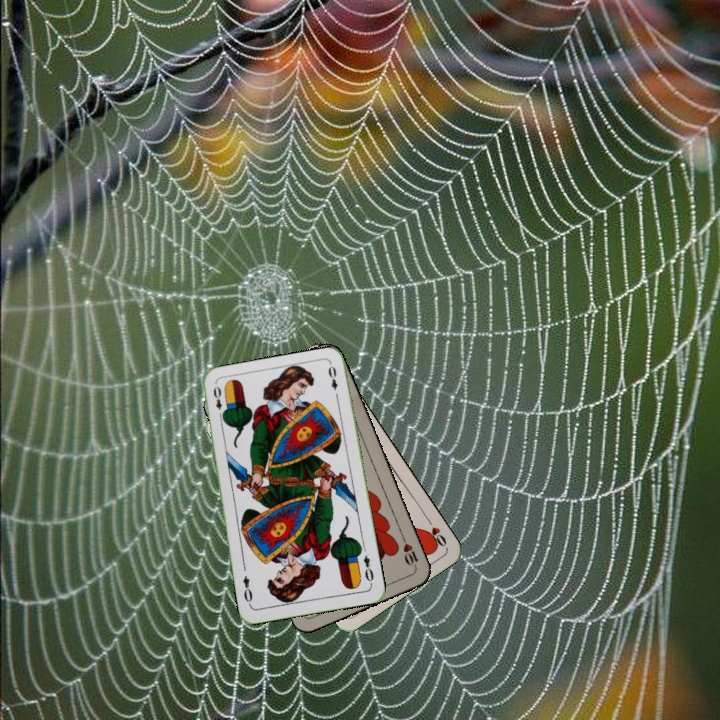EO: (209, 382, 227, 422), (359, 551, 376, 587)
H10: (398, 532, 421, 571)
HO: (422, 514, 449, 549)
